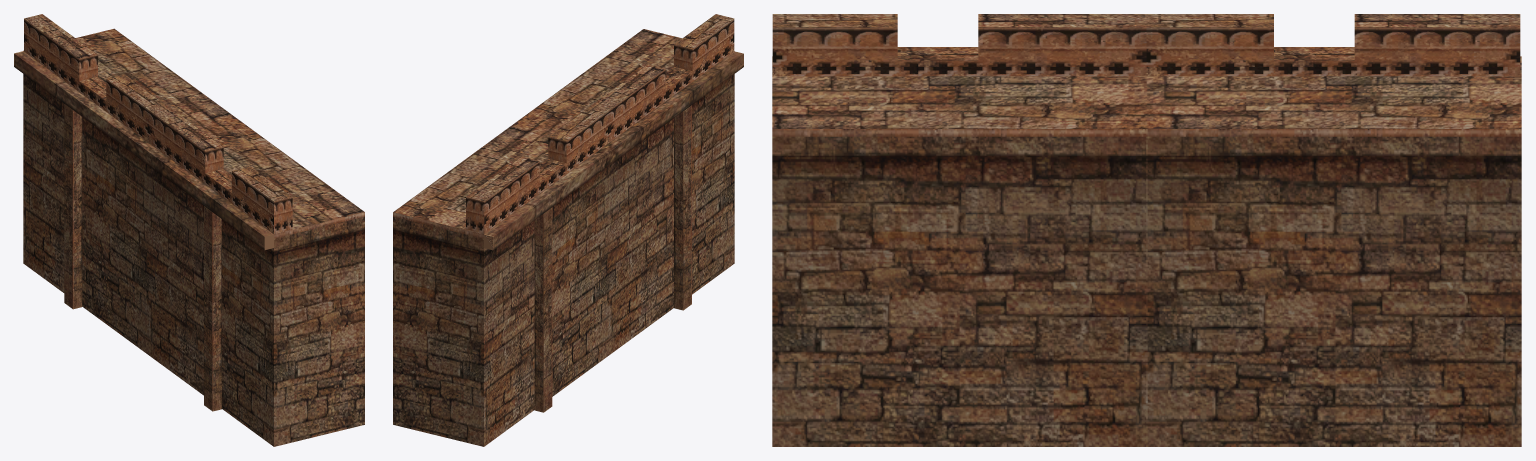
File: IFRTb.glb
3 renders of one model, left to right at view 1: azimuth 30°, elevation 25°; view 2: azimuth 150°, elevation 25°; view 3: azimuth 270°, elevation 25°, orthographic. The views are drawn at different scales.
Visible parts, largest first — view 1: _IFRTb; view 2: _IFRTb; view 3: _IFRTb.
Boxes of the visible parts, <box> form: _IFRTb: <box>14,14,364,446</box>; _IFRTb: <box>393,14,743,446</box>; _IFRTb: <box>772,14,1521,446</box>.
Bounding box in the file's own units: 3.17 × 7.42 × 13.73.
1 material, 1 textured.
